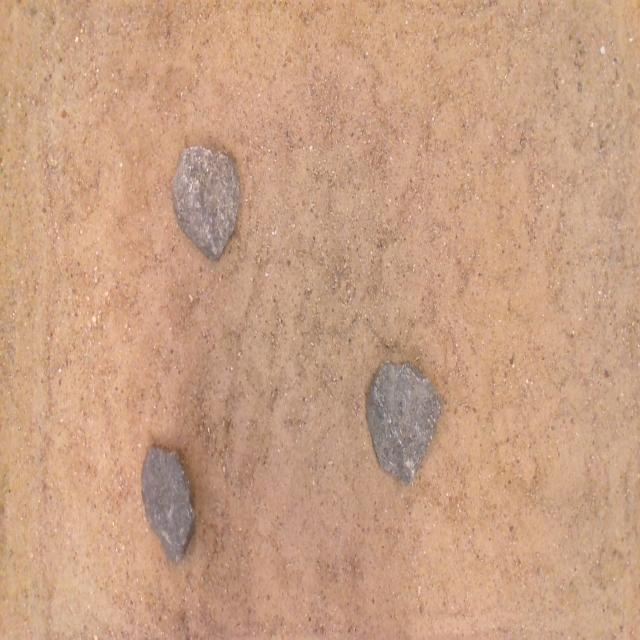rock: (368, 363, 442, 484), (172, 146, 239, 260), (142, 447, 195, 563)
